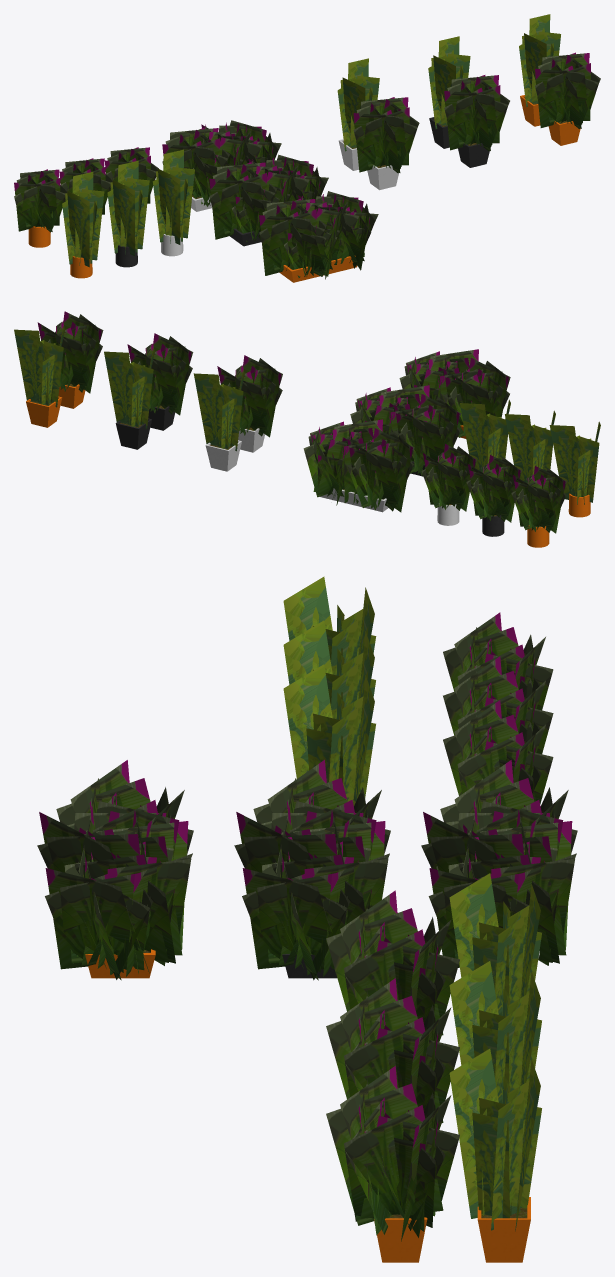
The model's file is optimized_potted_plants.glb.
3 renders of one model, top to bottom at view 1: azimuth 30°, elevation 25°; view 2: azimuth 150°, elevation 25°; view 3: azimuth 270°, elevation 25°, orthographic. The views are drawn at different scales.
Visible parts, largest first — view 1: Pot_8, Pot_7, Pot_3, Pot_13, Pot_14, Pot_12, Pot_11, Pot_10, Pot_9, Pot_2, Pot_5, Pot_6 (+3 smaller); view 2: Pot_3, Pot_7, Pot_8, Pot_6, Pot_4, Pot_5, Pot_13, Pot_12, Pot_14, Pot_11, Pot_2, Pot (+3 smaller); view 3: Pot_8, Pot_7, Pot_3, Pot_14, Pot_6, Pot_13, Pot_12, Pot_9, Pot_4, Pot_5, Pot, Pot_2 (+3 smaller).
Part boxes in pixels (bbox=[...]): Pot_8: bbox=[259, 191, 378, 282]; Pot_7: bbox=[209, 154, 328, 246]; Pot_3: bbox=[162, 120, 281, 211]; Pot_13: bbox=[444, 75, 509, 167]; Pot_14: bbox=[535, 52, 600, 145]; Pot_12: bbox=[353, 97, 419, 190]; Pot_11: bbox=[62, 172, 104, 278]; Pot_10: bbox=[107, 160, 149, 267]; Pot_9: bbox=[152, 149, 194, 256]; Pot_2: bbox=[14, 169, 68, 247]; Pot_5: bbox=[428, 36, 470, 148]; Pot_6: bbox=[519, 14, 560, 126]; Pot_3: bbox=[303, 419, 414, 512]; Pot_7: bbox=[350, 385, 461, 476]; Pot_8: bbox=[399, 349, 510, 438]; Pot_6: bbox=[14, 326, 65, 427]; Pot_4: bbox=[193, 370, 244, 471]; Pot_5: bbox=[104, 348, 154, 449]; Pot_13: bbox=[127, 333, 193, 430]; Pot_12: bbox=[217, 355, 282, 452]; Pot_14: bbox=[37, 311, 103, 408]; Pot_11: bbox=[549, 421, 600, 517]; Pot_2: bbox=[511, 466, 566, 547]; Pot: bbox=[421, 444, 476, 525]; Pot_8: bbox=[37, 760, 193, 980]; Pot_7: bbox=[234, 759, 390, 980]; Pot_3: bbox=[421, 760, 577, 967]; Pot_14: bbox=[326, 1066, 459, 1262]; Pot_6: bbox=[449, 1048, 541, 1262]; Pot_13: bbox=[326, 978, 459, 1122]; Pot_12: bbox=[326, 890, 459, 1035]; Pot_9: bbox=[283, 664, 375, 806]; Pot_4: bbox=[449, 873, 541, 1015]; Pot_5: bbox=[449, 961, 541, 1103]; Pot: bbox=[443, 700, 553, 804]; Pot_2: bbox=[443, 612, 553, 710].
Bounding box in the file's own units: 12.24 × 2.07 × 5.21.
1 material, 1 textured.
